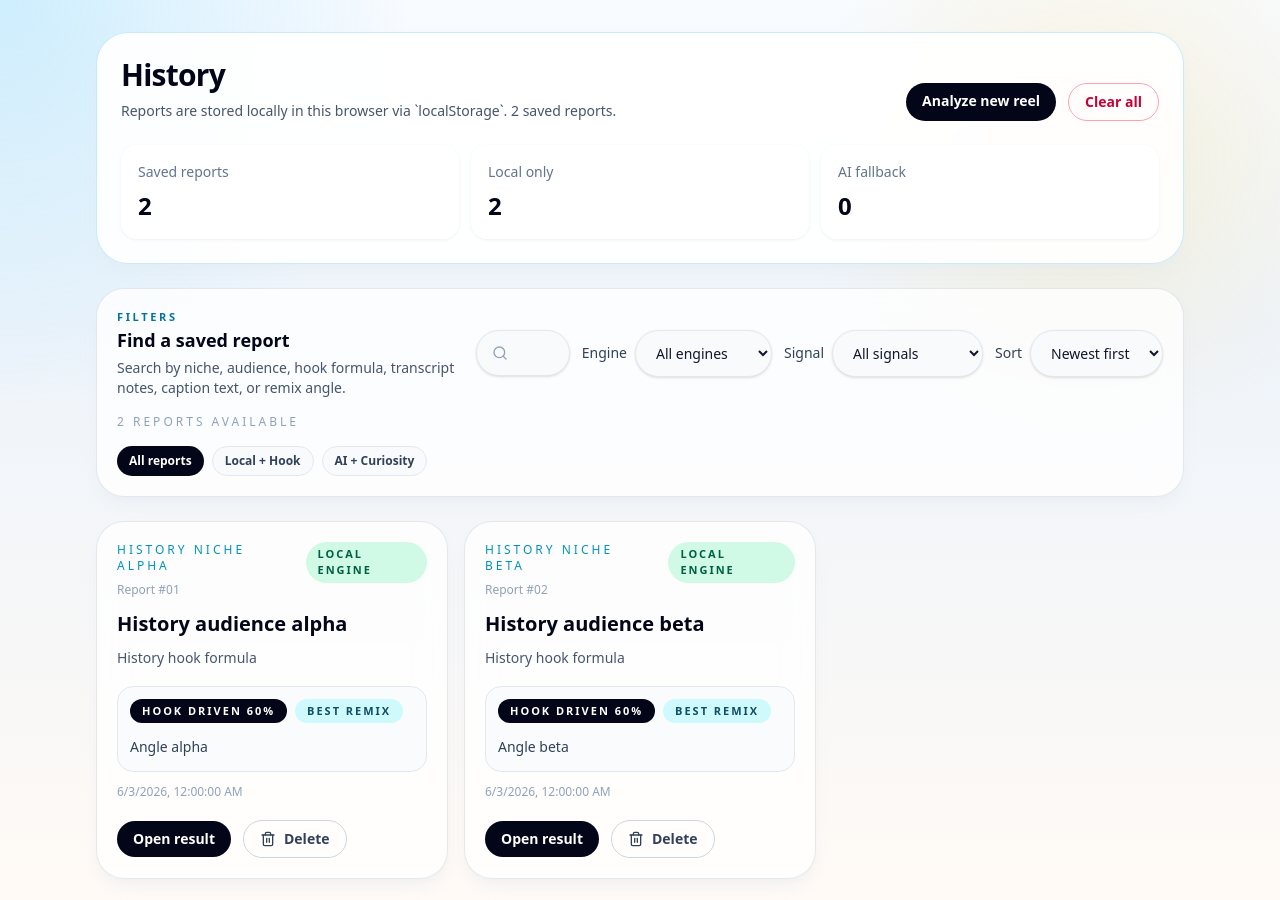
Test: HistoryPage › deletes a single saved report card
Step 1. Click the button "Delete" below "Angle alpha" → (295,839), box [243,820,346,858]
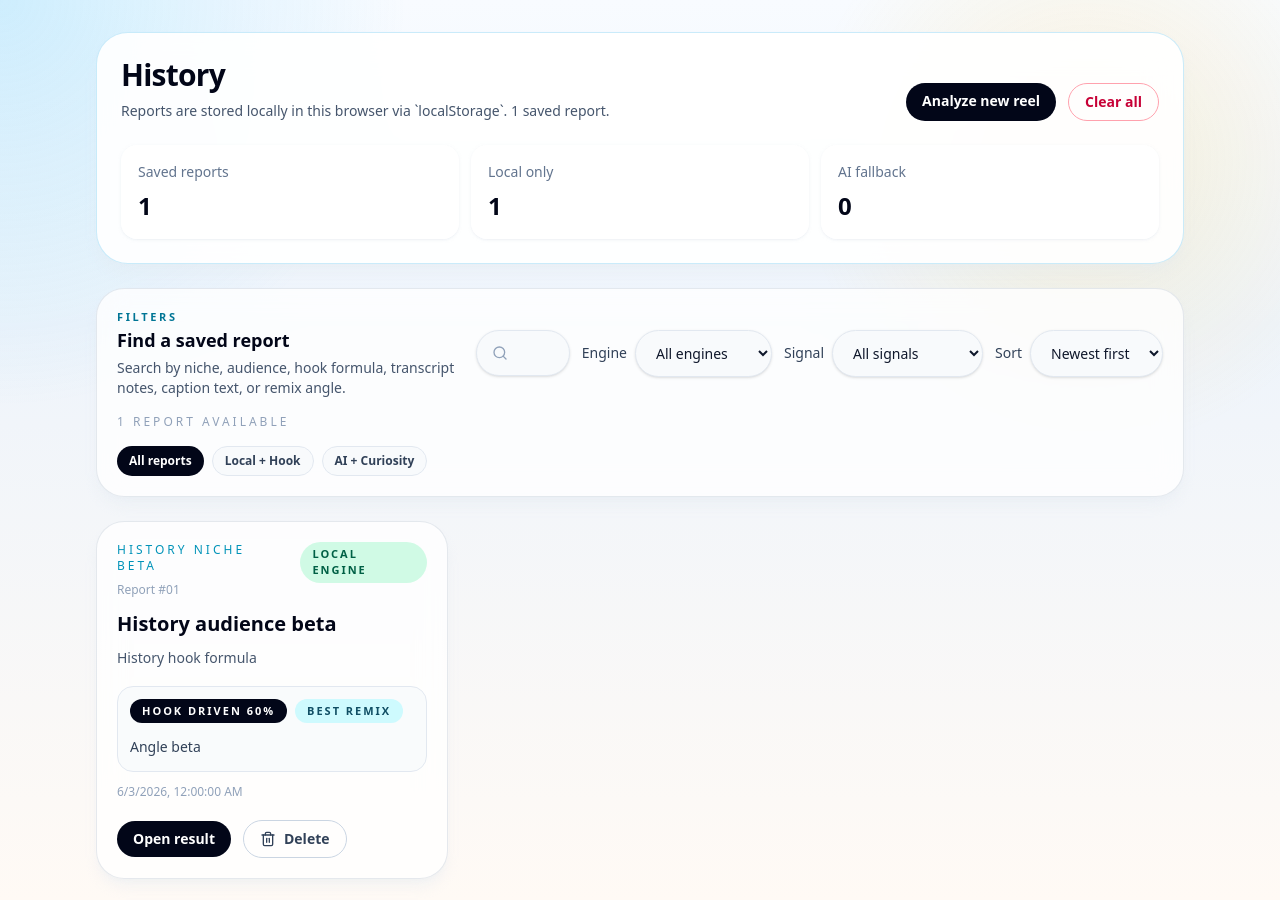
Expected: the text "History niche beta" is shown, [117,540,245,574]
Expected: the text "History niche alpha" is gone
